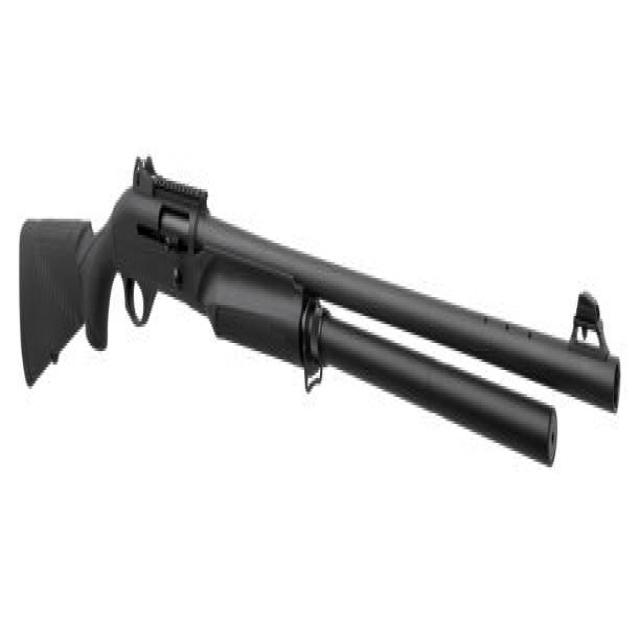rifle: (16, 122, 628, 500)
